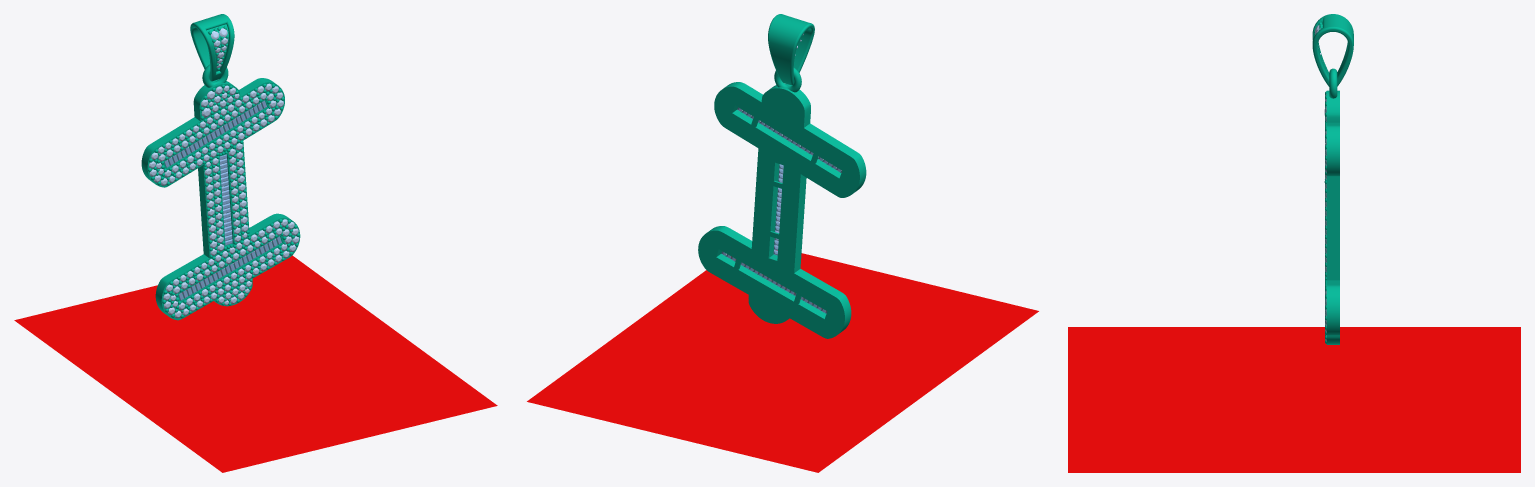
The picture shows the model from 3 angles, left to right: view 1: azimuth 30°, elevation 25°; view 2: azimuth 150°, elevation 25°; view 3: azimuth 270°, elevation 25°; orthographic projection. The views are drawn at different scales.
Visible parts, largest first — view 1: PN 0014(front).3dm; view 2: PN 0014(front).3dm; view 3: PN 0014(front).3dm.
Part boxes in pixels (<box>): PN 0014(front).3dm: <box>14,14,497,472</box>; PN 0014(front).3dm: <box>527,14,1038,472</box>; PN 0014(front).3dm: <box>1068,14,1520,472</box>.
Size of what is drawn, in the model's own units: 3.46 by 4.05 by 4.54.
